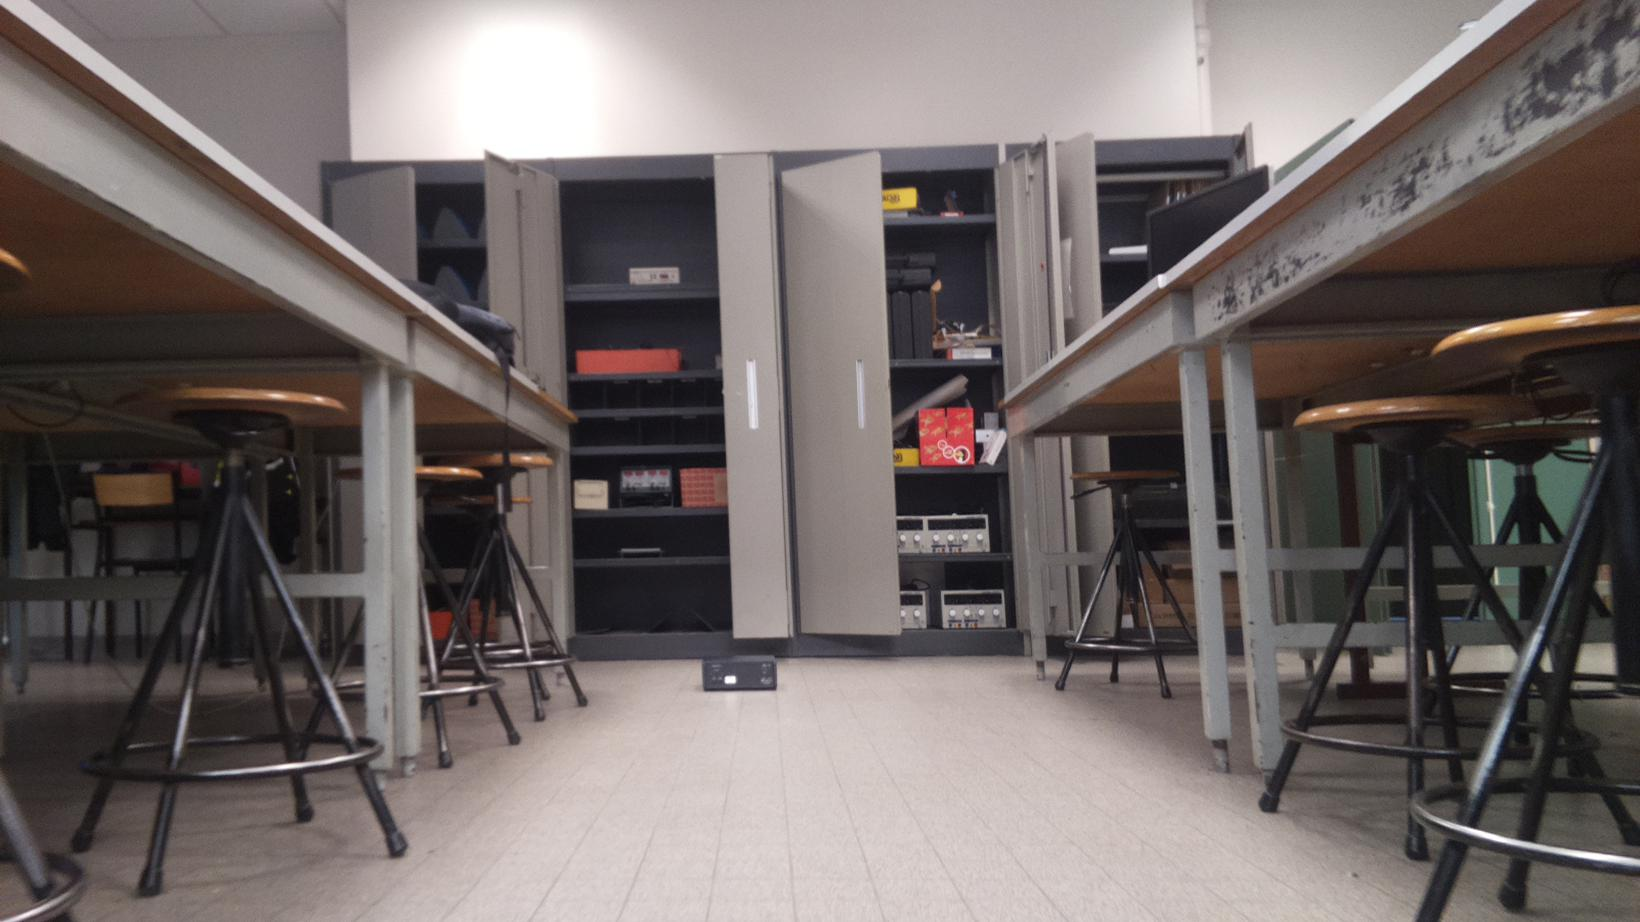medium: (699, 654, 781, 693)
